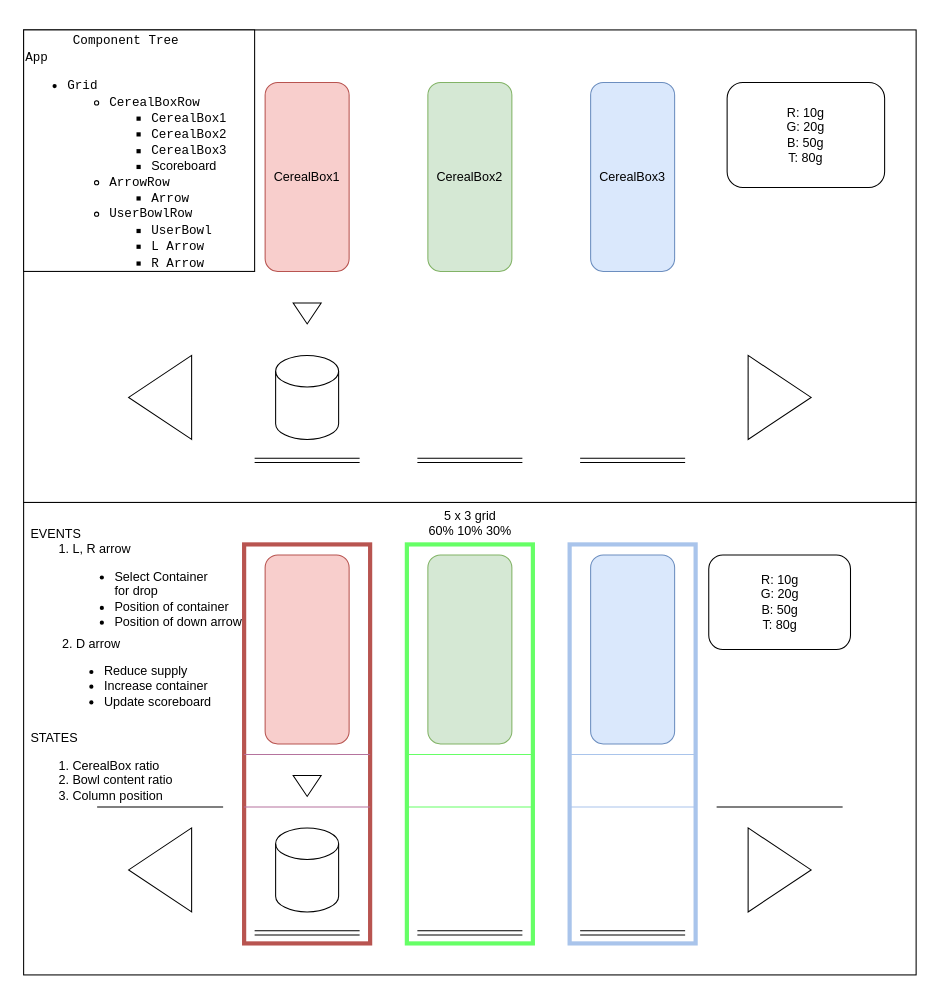
Some shapes in this 934 by 993 pixel diagram are drawn without their labels. Here are the shapes that lost their labels. From the top down, the centre of each, then its label:
At point (306, 313): "Arrow".
At point (307, 396): "UserBowl".
